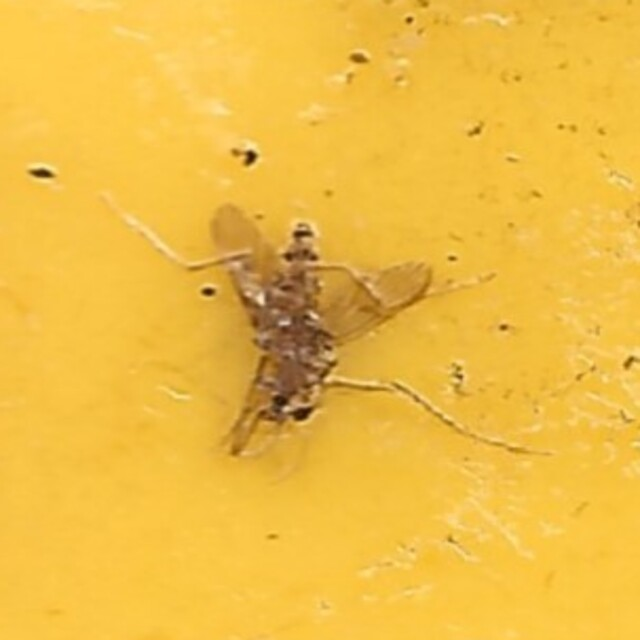Nematocera: (211, 189, 429, 451)
